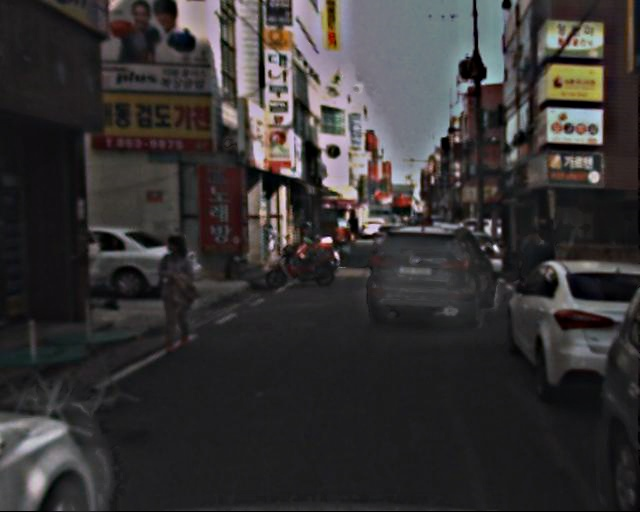person: (157, 232, 210, 347), (521, 224, 560, 311)
